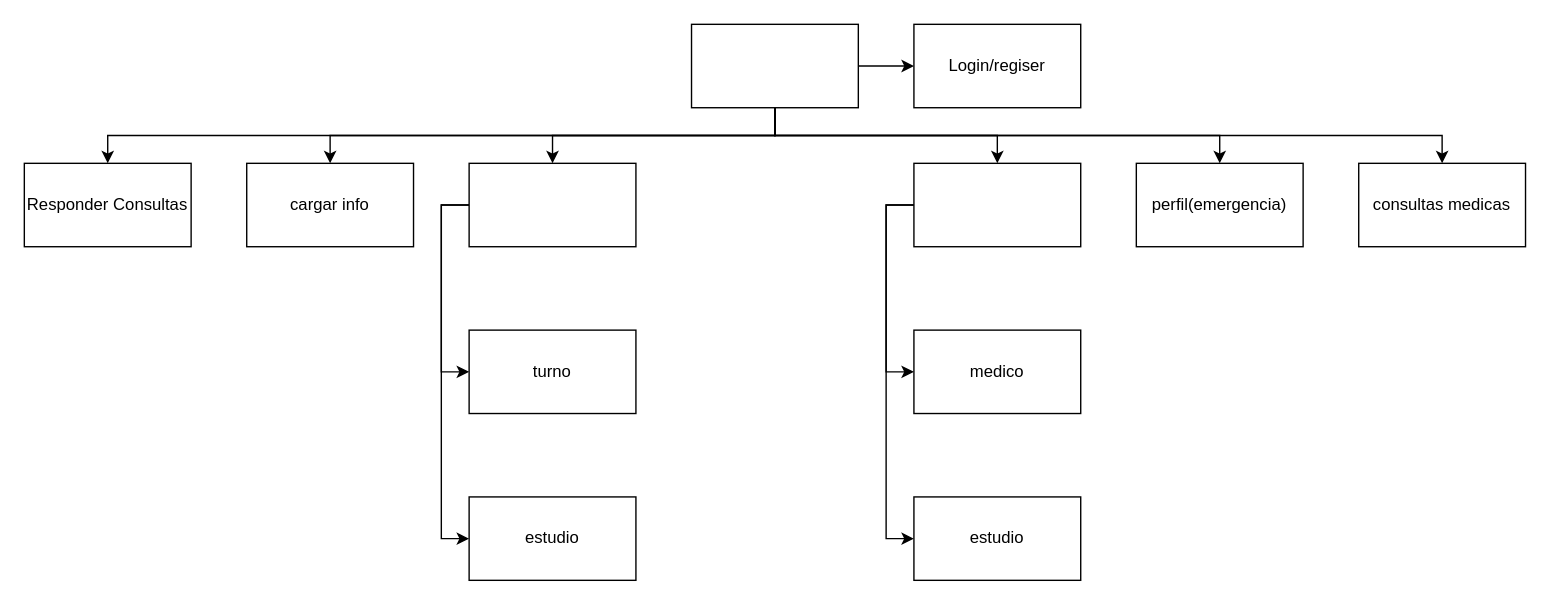
Image size: 1550x605. Some labels were removed from this diagram. The shapes that lost their labels are listed below. From the top down, each one's centre as x and y in pixels, then its label:
point 774,65: home(i)
point 552,204: muestra(f,h)
point 997,204: sacar turno(e)
